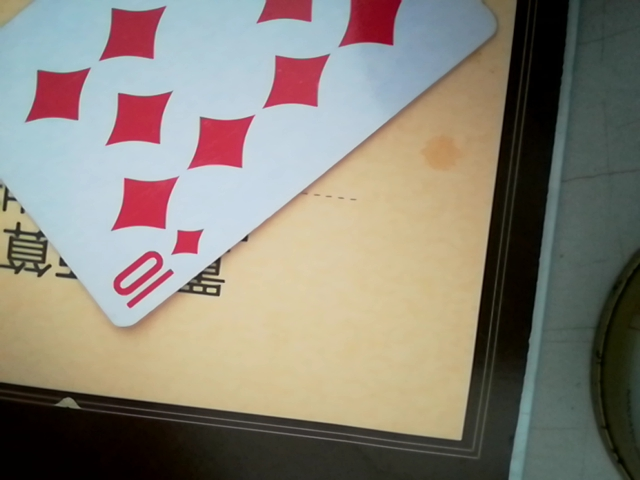fk 10: (0, 0, 497, 325)
